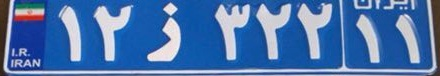1: (56, 2, 89, 66), (351, 10, 387, 68), (391, 11, 428, 66)
2: (90, 1, 137, 67), (294, 1, 336, 63), (254, 1, 293, 61)
3: (209, 1, 255, 64)
ز: (144, 1, 188, 65)
